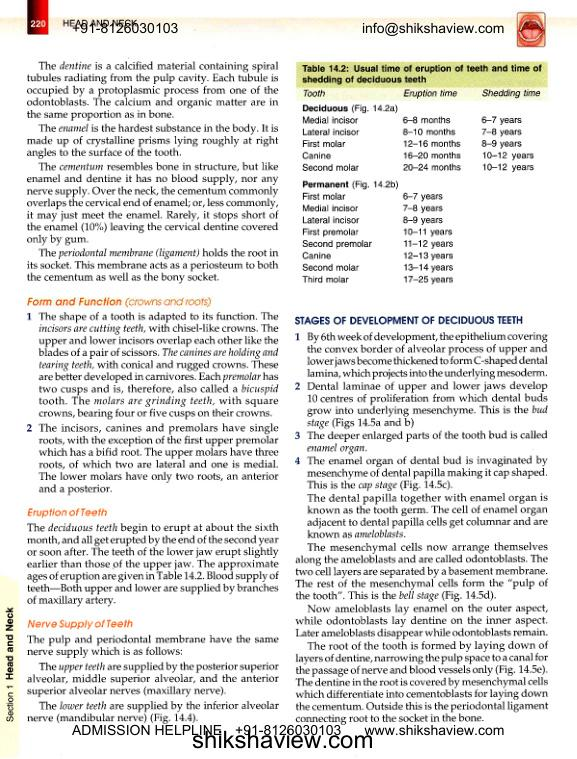caption: (301, 63, 542, 86)
list: (292, 330, 550, 539), (25, 311, 279, 497)
sub-section-heading: (294, 314, 525, 326), (25, 296, 213, 308), (26, 618, 134, 630), (27, 507, 108, 519)
table: (297, 87, 548, 288)
text: (25, 59, 280, 285), (294, 540, 551, 725), (26, 633, 280, 725), (25, 522, 280, 608)
